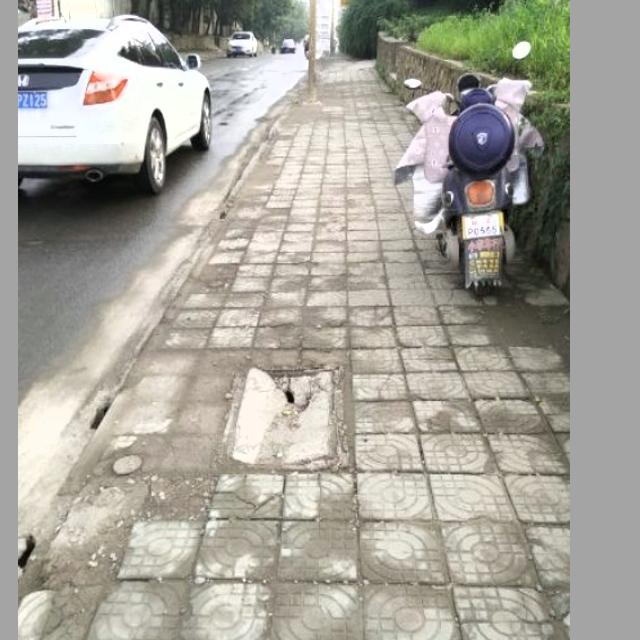broke: (222, 362, 350, 469)
